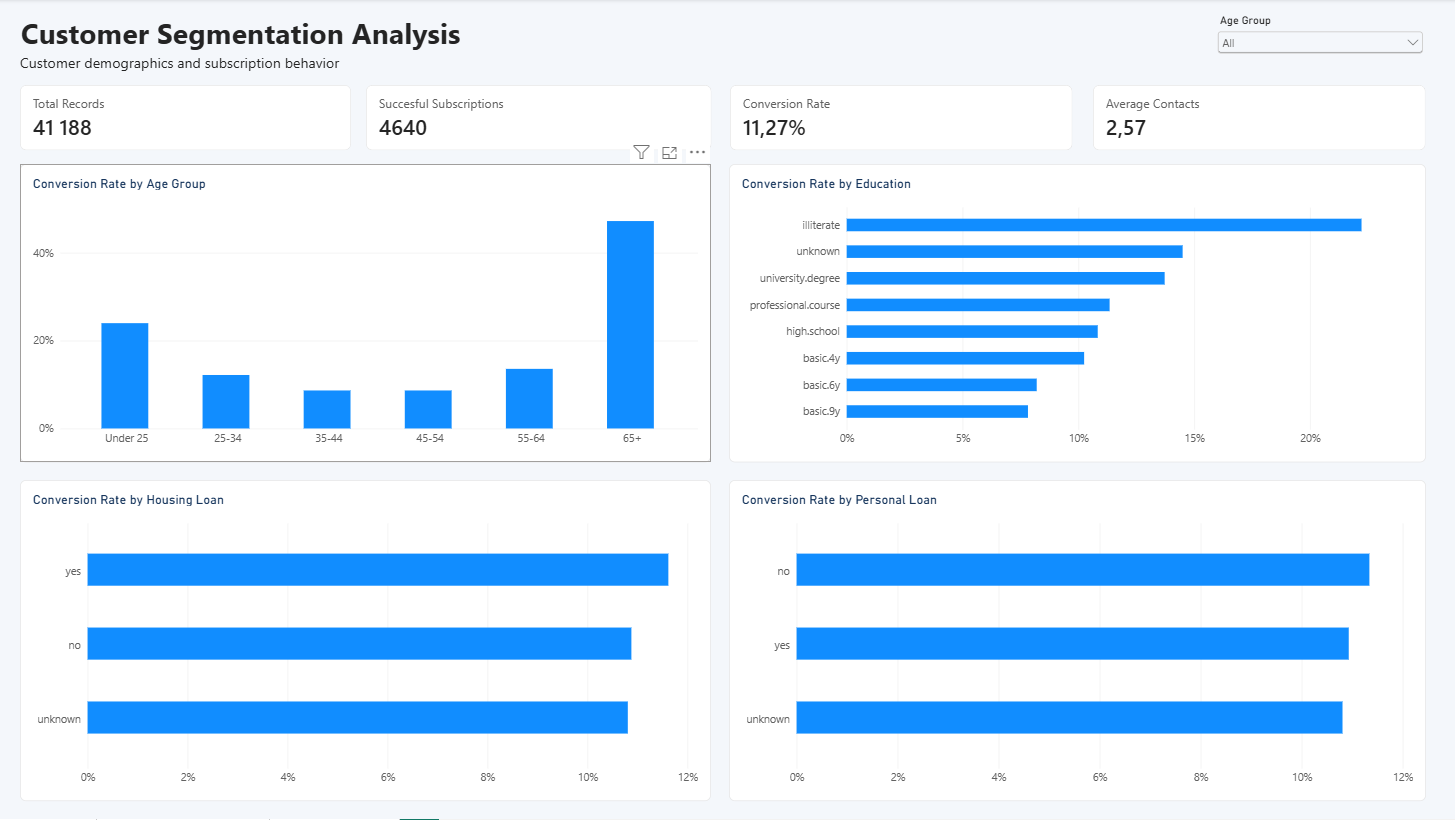

The page's visual inventory and layout, read from the dashboard file:
{"tool":"powerbi","page":{"name":"Customer Segmentation","canvas":[1920,1080],"ordinal":1},"visuals":[{"type":"cardVisual","fields":{"Data":["BankCampaigns.Total Records"]},"box":[26.7,113.3,436.7,86.7],"z":0},{"type":"cardVisual","fields":{"Data":["BankCampaigns.Conversion Rate"]},"box":[961.7,113.3,451.7,86.7],"z":1000},{"type":"cardVisual","fields":{"Data":["BankCampaigns.Average Contacts"]},"box":[1440,113.3,438.3,86.7],"z":2000},{"type":"cardVisual","fields":{"Data":["BankCampaigns.Succesful Subscription"]},"box":[481.7,113.3,455,86.7],"z":3000},{"type":"textbox","box":[27.2,19.7,600.2,63.5],"z":4000},{"type":"textbox","box":[26.7,71.7,480,48.3],"z":5000},{"type":"slicer","fields":{"Values":["BankCampaigns.Age Group"]},"box":[1598.3,20,280,63.3],"z":6000},{"type":"clusteredColumnChart","title":"Conversion Rate by Age Group","fields":{"Category":["BankCampaigns.Age Group"],"Y":["BankCampaigns.Conversion Rate"]},"box":[26.7,216.7,910,393.3],"z":7000},{"type":"clusteredBarChart","title":"Conversion Rate by Education","fields":{"Category":["BankCampaigns.education"],"Y":["BankCampaigns.Conversion Rate"]},"box":[960,216.7,918.3,393.3],"z":8000},{"type":"clusteredBarChart","title":"Conversion Rate by Housing Loan","fields":{"Category":["BankCampaigns.housing"],"Y":["BankCampaigns.Conversion Rate"]},"box":[26.7,633.3,910,423.3],"z":9000},{"type":"clusteredBarChart","title":"Conversion Rate by Personal Loan","fields":{"Y":["BankCampaigns.Conversion Rate"],"Category":["BankCampaigns.loan"]},"box":[960,633.3,918.3,423.3],"z":10000}]}

Visuals, with their boxes in screenshot pixels (x1, y1, x2, y2), scaled from the page's 1920x1080 canvas onto the 1455x820 screenshot:
cardVisual - BankCampaigns.Total Records: x1=20 y1=86 x2=351 y2=152
cardVisual - BankCampaigns.Conversion Rate: x1=729 y1=86 x2=1071 y2=152
cardVisual - BankCampaigns.Average Contacts: x1=1091 y1=86 x2=1423 y2=152
cardVisual - BankCampaigns.Succesful Subscription: x1=365 y1=86 x2=710 y2=152
textbox: x1=21 y1=15 x2=475 y2=63
textbox: x1=20 y1=54 x2=384 y2=91
slicer - BankCampaigns.Age Group: x1=1211 y1=15 x2=1423 y2=63
"Conversion Rate by Age Group" clusteredColumnChart: x1=20 y1=165 x2=710 y2=463
"Conversion Rate by Education" clusteredBarChart: x1=728 y1=165 x2=1423 y2=463
"Conversion Rate by Housing Loan" clusteredBarChart: x1=20 y1=481 x2=710 y2=802
"Conversion Rate by Personal Loan" clusteredBarChart: x1=728 y1=481 x2=1423 y2=802
